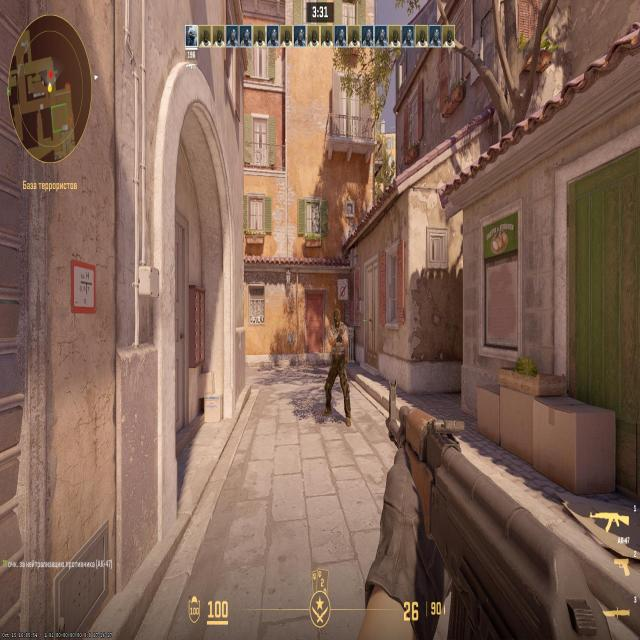T: (333, 312, 345, 396)
T_heat: (332, 315, 340, 327)
